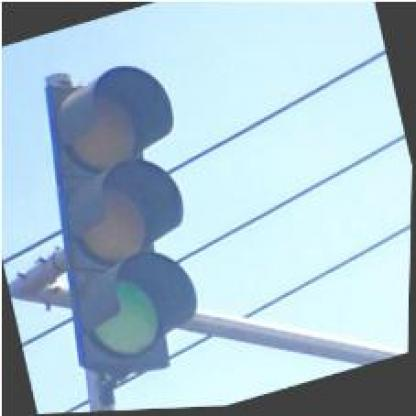green: (10, 51, 236, 396)
